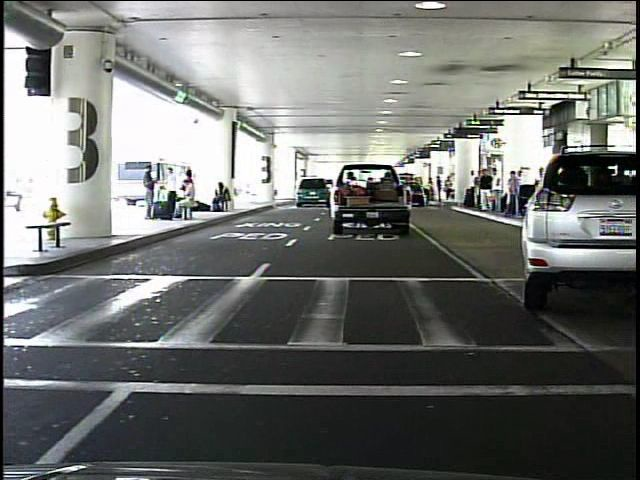person: (139, 163, 161, 223), (478, 168, 496, 216), (490, 166, 504, 216), (434, 173, 444, 205)
